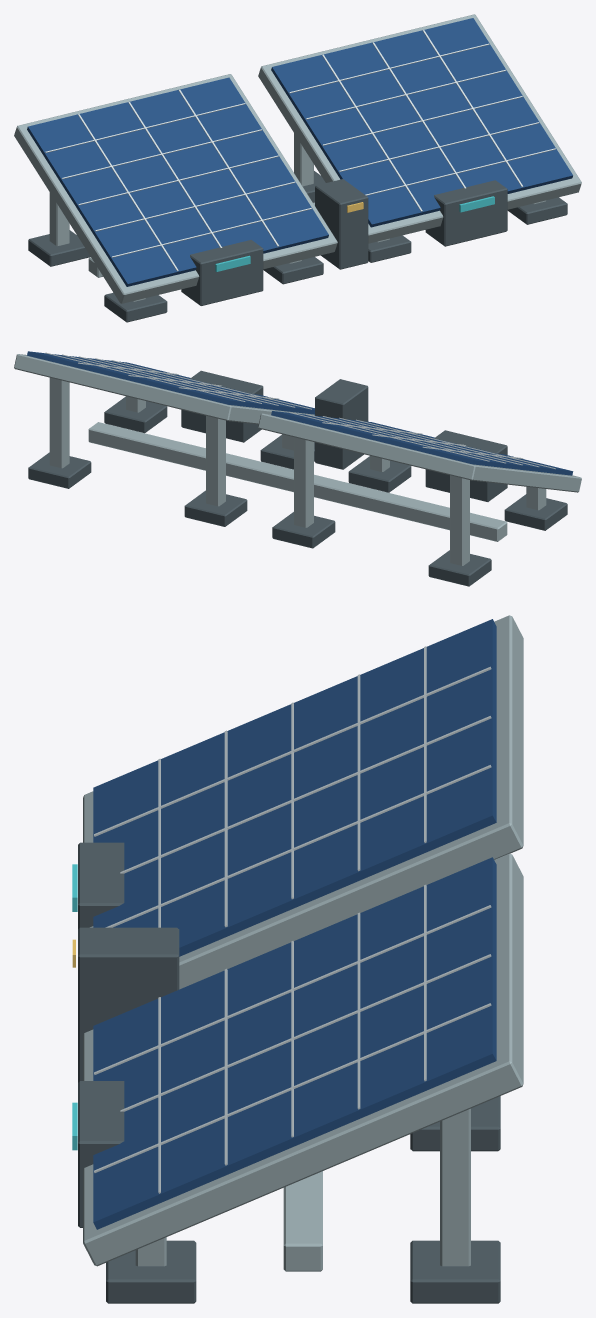
File: solar-array.glb
The picture shows the model from 3 angles, top to bottom: view 1: azimuth 30°, elevation 25°; view 2: azimuth 150°, elevation 25°; view 3: azimuth 270°, elevation 25°; orthographic projection. The views are drawn at different scales.
Visible parts, largest first — view 1: Dark photovoltaic cells.003, Bolted ground shoe.012, Rack leg.012, Cell column busbar.009, Inverter status strip.003; view 2: Rack leg.012, Bolted ground shoe.012, Dark photovoltaic cells.003, Cell column busbar.009; view 3: Dark photovoltaic cells.003, Rack leg.012, Bolted ground shoe.012, Cell column busbar.009.
Part boxes in pixels (x1,y1,x2,y2): Dark photovoltaic cells.003: (27, 18, 572, 286); Bolted ground shoe.012: (28, 171, 567, 322); Rack leg.012: (14, 14, 581, 303); Cell column busbar.009: (45, 30, 555, 271); Inverter status strip.003: (215, 196, 494, 271); Rack leg.012: (14, 354, 581, 565); Bolted ground shoe.012: (28, 370, 567, 586); Dark photovoltaic cells.003: (27, 351, 573, 475); Cell column busbar.009: (45, 352, 555, 469); Dark photovoltaic cells.003: (93, 619, 496, 1229); Rack leg.012: (83, 615, 523, 1271); Bolted ground shoe.012: (78, 842, 500, 1303); Cell column busbar.009: (94, 646, 491, 1193).
Bounding box in the file's own units: 1.88 × 0.4961 × 0.8001.
